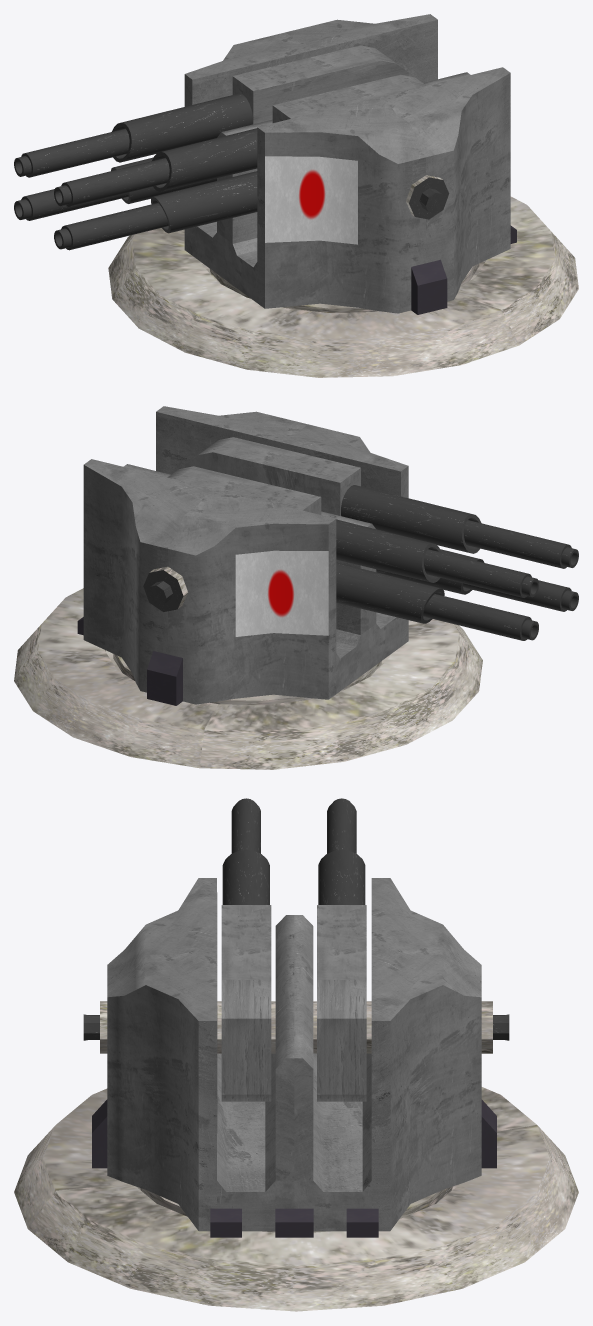
3 renders of one model, top to bottom at view 1: azimuth 30°, elevation 25°; view 2: azimuth 150°, elevation 25°; view 3: azimuth 270°, elevation 25°, orthographic. The views are drawn at different scales.
Parts seen in each view (by area): view 1: Body, Base, Barrel3, Barrel1, Barrel, Gun_Handle1, Gun_Handle, Barrel2, Wire_Cover4, Connector; view 2: Body, Base, Barrel, Barrel3, Barrel2, Gun_Handle, Gun_Handle1, Barrel1, Wire_Cover, Connector; view 3: Body, Base, Gun_Handle, Gun_Handle1, Barrel, Barrel3, Connector, Wire_Cover2, Wire_Cover, Wire_Cover4, Wire_Cover1, Wire_Cover3.
Part boxes in pixels (<box>): Body: <box>184,14,510,313</box>; Base: <box>108,196,578,377</box>; Barrel3: <box>14,93,252,177</box>; Barrel1: <box>54,171,257,250</box>; Barrel: <box>54,128,257,206</box>; Gun_Handle1: <box>232,45,408,124</box>; Gun_Handle: <box>272,74,426,122</box>; Barrel2: <box>14,157,216,220</box>; Wire_Cover4: <box>411,259,447,314</box>; Connector: <box>406,175,449,219</box>; Body: <box>83,406,408,704</box>; Base: <box>14,588,482,769</box>; Barrel: <box>341,485,578,568</box>; Barrel3: <box>336,519,538,597</box>; Barrel2: <box>336,562,538,640</box>; Gun_Handle: <box>185,437,360,515</box>; Gun_Handle1: <box>167,466,321,514</box>; Barrel1: <box>376,549,578,611</box>; Wire_Cover: <box>147,651,182,705</box>; Connector: <box>143,566,187,611</box>; Body: <box>107,878,481,1231</box>; Base: <box>14,1087,578,1311</box>; Gun_Handle: <box>221,905,271,1101</box>; Gun_Handle1: <box>317,905,366,1101</box>; Barrel: <box>222,798,269,904</box>; Barrel3: <box>318,798,365,904</box>; Connector: <box>83,1001,509,1053</box>; Wire_Cover2: <box>275,1208,313,1237</box>; Wire_Cover: <box>481,1099,496,1168</box>; Wire_Cover4: <box>92,1099,107,1168</box>; Wire_Cover1: <box>346,1208,378,1237</box>; Wire_Cover3: <box>210,1208,241,1237</box>.
Size of the model in its own units: 3.19 by 1.22 by 2.56.
1 material, 1 textured.
